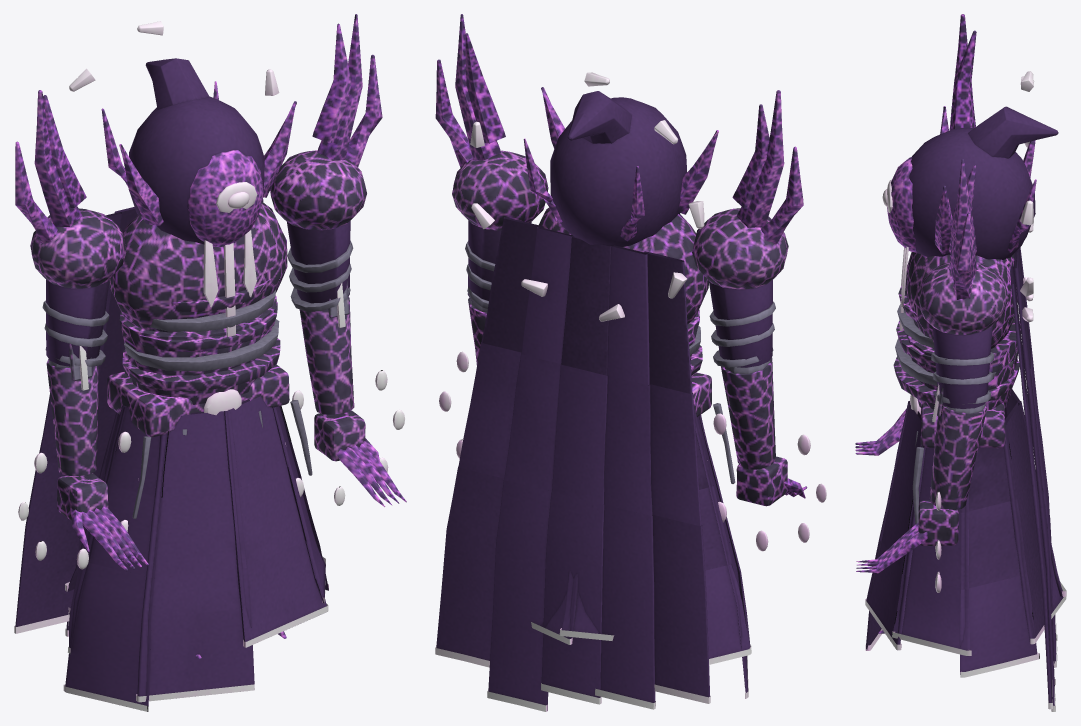
Rendered from Warden.glb.
3 renders of one model, left to right at view 1: azimuth 30°, elevation 25°; view 2: azimuth 150°, elevation 25°; view 3: azimuth 270°, elevation 25°, orthographic. The views are drawn at different scales.
Visible parts, largest first — view 1: Warden_spine, Warden_head, Warden_upperArmL, Warden_upperArmR, Warden_robeH3, Warden_robeG3, Warden_cloakA3, Warden_robeH2, Warden_hips, Warden_robeA3, Warden_robeH1, Warden_lowerArmR (+11 smaller); view 2: Warden_head, Warden_upperArmR, Warden_upperArmL, Warden_cloakD3, Warden_cloakB3, Warden_cloakE3, Warden_cloakC3, Warden_cloakA3, Warden_spine, Warden_cloakC2, Warden_cloakA2, Warden_cloakB2 (+14 smaller); view 3: Warden_head, Warden_upperArmL, Warden_spine, Warden_robeC3, Warden_robeB3, Warden_lowerArmL, Warden_robeC2, Warden_handL, Warden_robeC1, Warden_robeB2, Warden_robeA3, Warden_hips (+18 smaller).
Boxes of the visible parts, x1,y1,x2,y2 form: Warden_spine: (101, 81, 296, 404); Warden_head: (69, 21, 279, 246); Warden_upperArmL: (270, 14, 382, 311); Warden_upperArmR: (15, 90, 126, 367); Warden_robeH3: (136, 568, 254, 702); Warden_robeG3: (63, 563, 154, 711); Warden_cloakA3: (14, 462, 79, 633); Warden_robeH2: (146, 489, 246, 577); Warden_hips: (107, 364, 312, 518); Warden_robeA3: (237, 539, 328, 647); Warden_robeH1: (154, 410, 238, 497); Warden_lowerArmR: (46, 344, 98, 475); Warden_head: (470, 72, 704, 321); Warden_upperArmR: (692, 90, 803, 373); Warden_upperArmL: (435, 14, 548, 312); Warden_cloakD3: (487, 479, 551, 711); Warden_cloakB3: (595, 504, 655, 709); Warden_cloakE3: (435, 466, 503, 667); Warden_cloakC3: (541, 492, 604, 704); Warden_cloakA3: (652, 515, 710, 703); Warden_spine: (523, 87, 718, 375); Warden_cloakC2: (552, 364, 607, 504); Warden_cloakA2: (648, 384, 701, 526); Warden_cloakB2: (604, 375, 652, 515); Warden_head: (882, 71, 1058, 322); Warden_upperArmL: (918, 159, 1008, 413); Warden_spine: (893, 106, 1036, 410); Warden_robeC3: (960, 574, 1039, 677); Warden_robeB3: (892, 574, 971, 656); Warden_lowerArmL: (929, 383, 986, 509); Warden_robeC2: (960, 499, 1027, 589); Warden_handL: (856, 491, 958, 592); Warden_robeC1: (960, 424, 1017, 512); Warden_robeB2: (902, 499, 968, 589); Warden_robeA3: (865, 538, 909, 650); Warden_hips: (910, 394, 1005, 524).
Bounding box in the file's own units: 2.73 × 4.29 × 1.39.
Materials: 1 (1 with a texture image).
